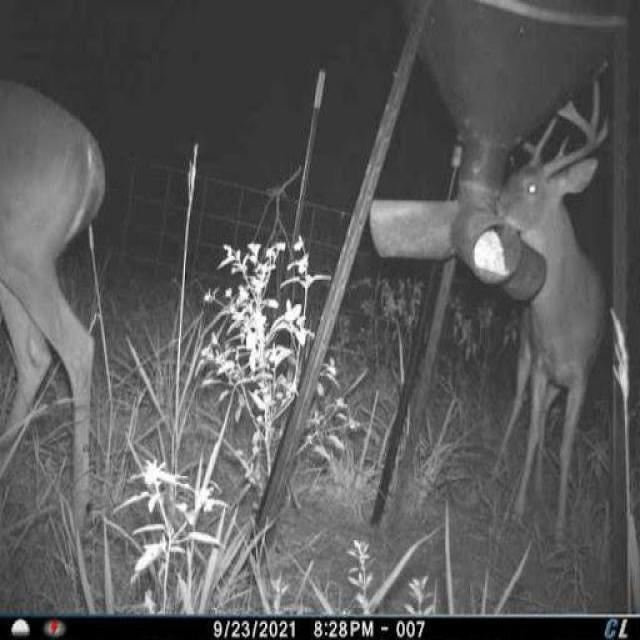deer: (486, 70, 626, 530), (0, 69, 102, 548)
